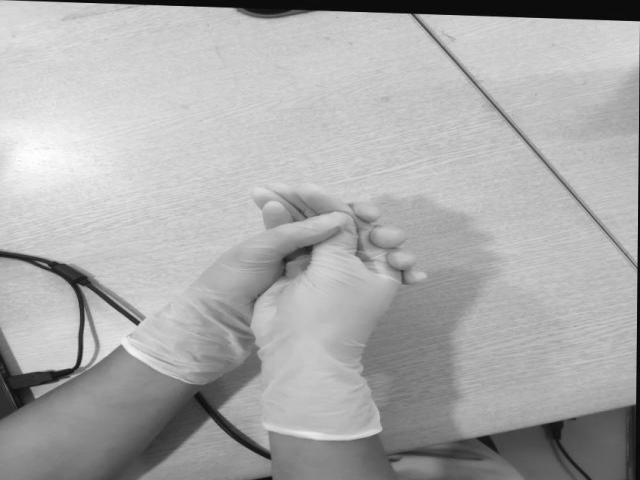gloved: (175, 200, 426, 340), (244, 181, 403, 369)
